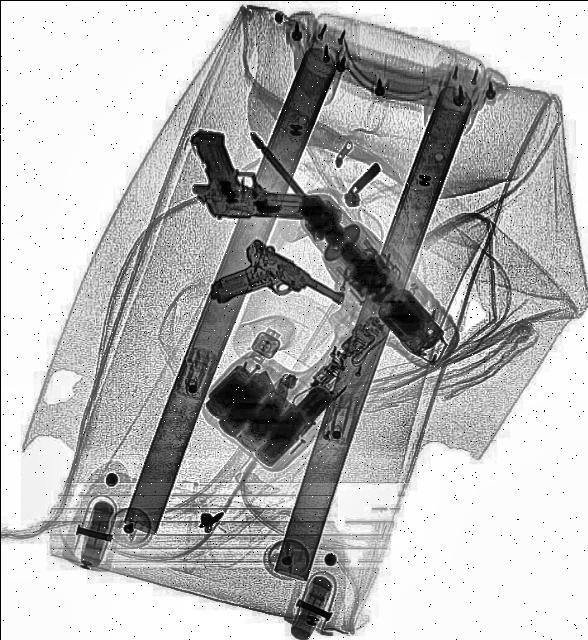Gun: (206, 228, 350, 358), (188, 126, 326, 220)
